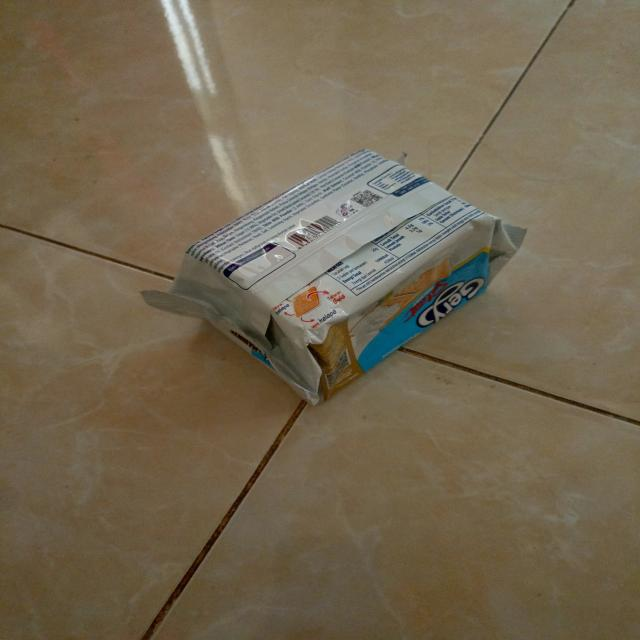gery-salut-coconut: (139, 150, 526, 407)
